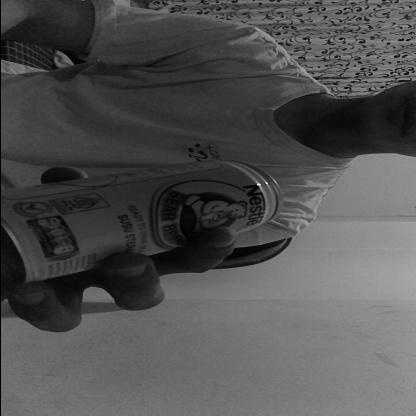alumunium_can: (6, 160, 282, 286)
